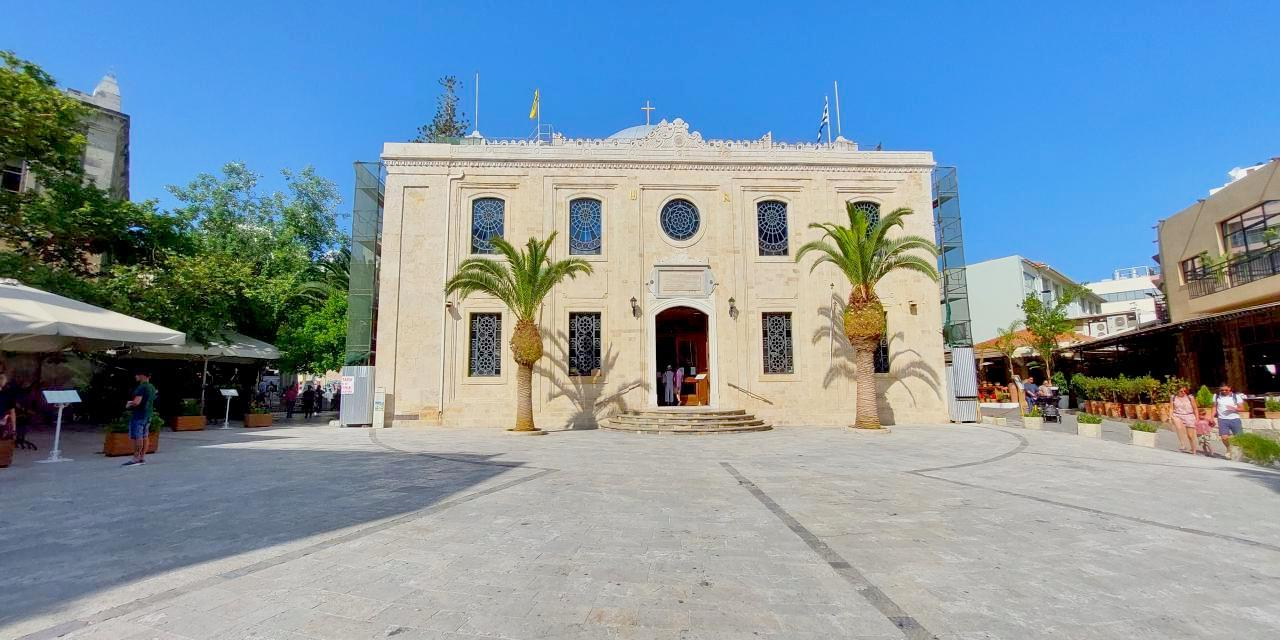Agios Titos: (371, 130, 932, 429)
